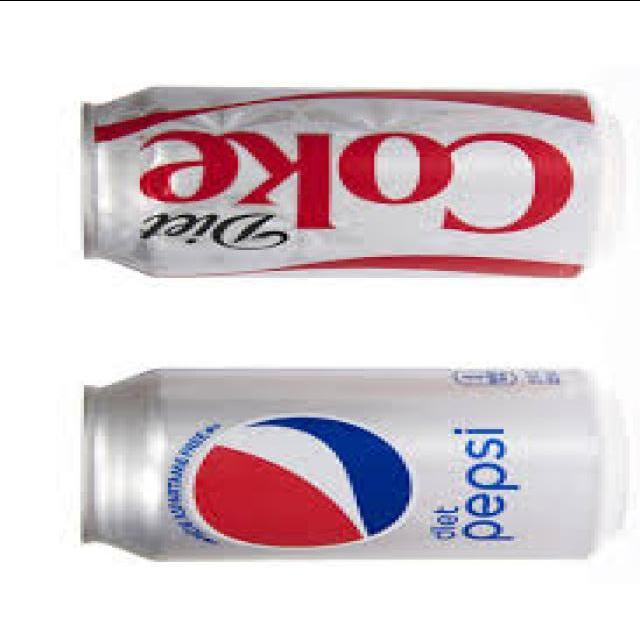can: (74, 370, 616, 566), (73, 88, 594, 280)
